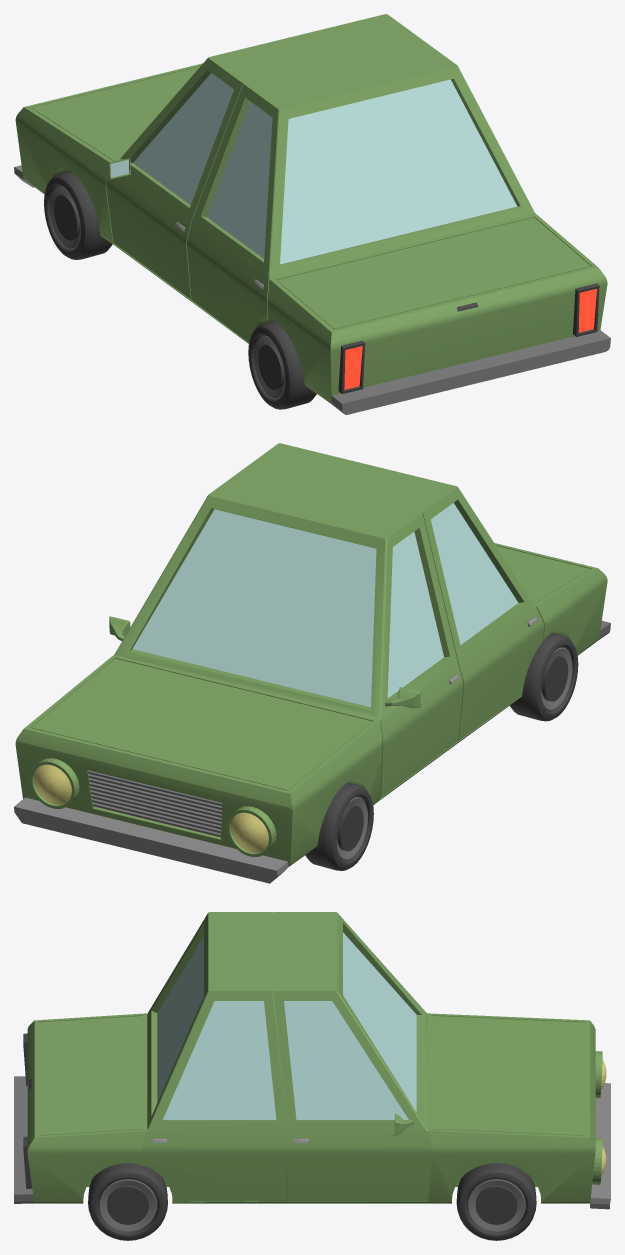
Rendered from CarFinished.fbx.
3 views of the same model, one above another, from view 1: azimuth 30°, elevation 25°; view 2: azimuth 150°, elevation 25°; view 3: azimuth 270°, elevation 25° (orthographic). The views are drawn at different scales.
Visible parts, largest first — view 1: BackCrash; view 2: BackCrash; view 3: BackCrash.
Part boxes in pixels (x1=…): BackCrash: x1=14, y1=14, x2=610, y2=414; BackCrash: x1=14, y1=443, x2=610, y2=883; BackCrash: x1=14, y1=912, x2=610, y2=1240.
Bounding box in the file's own units: 79.67 × 61.73 × 147.
